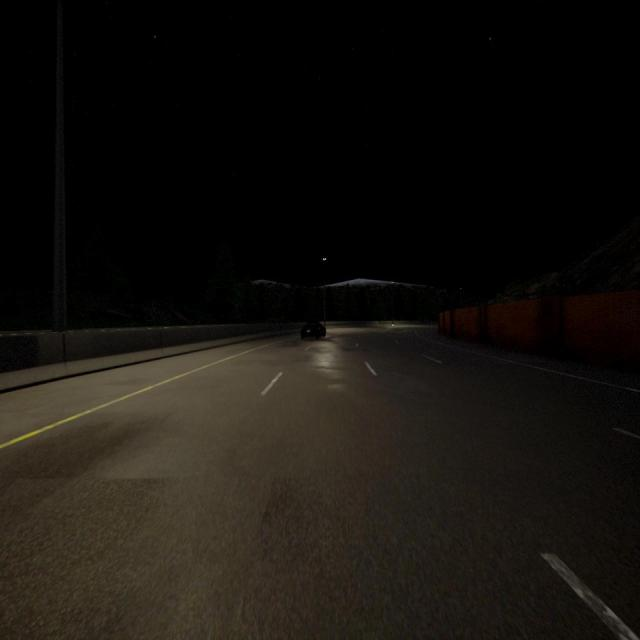Vehicle: (299, 321, 327, 338)
